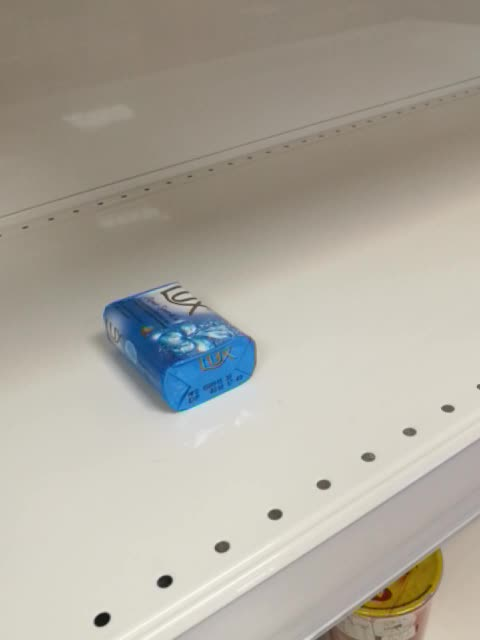soap: (102, 280, 260, 415)
